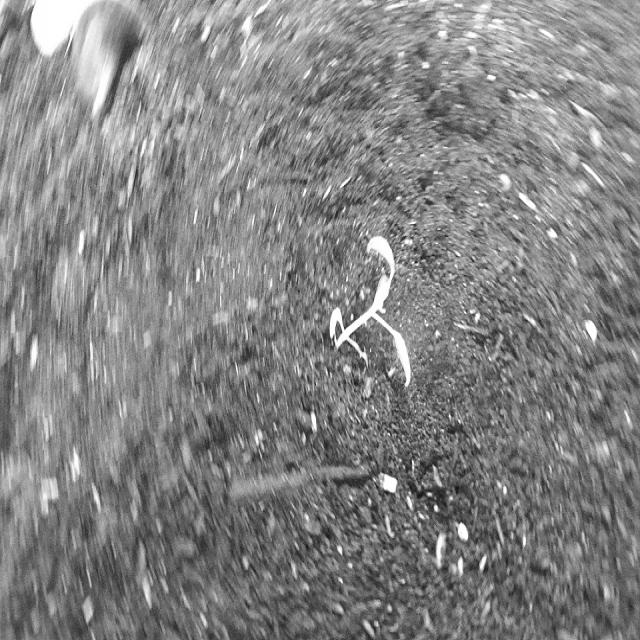Healthy: (329, 223, 421, 406)
